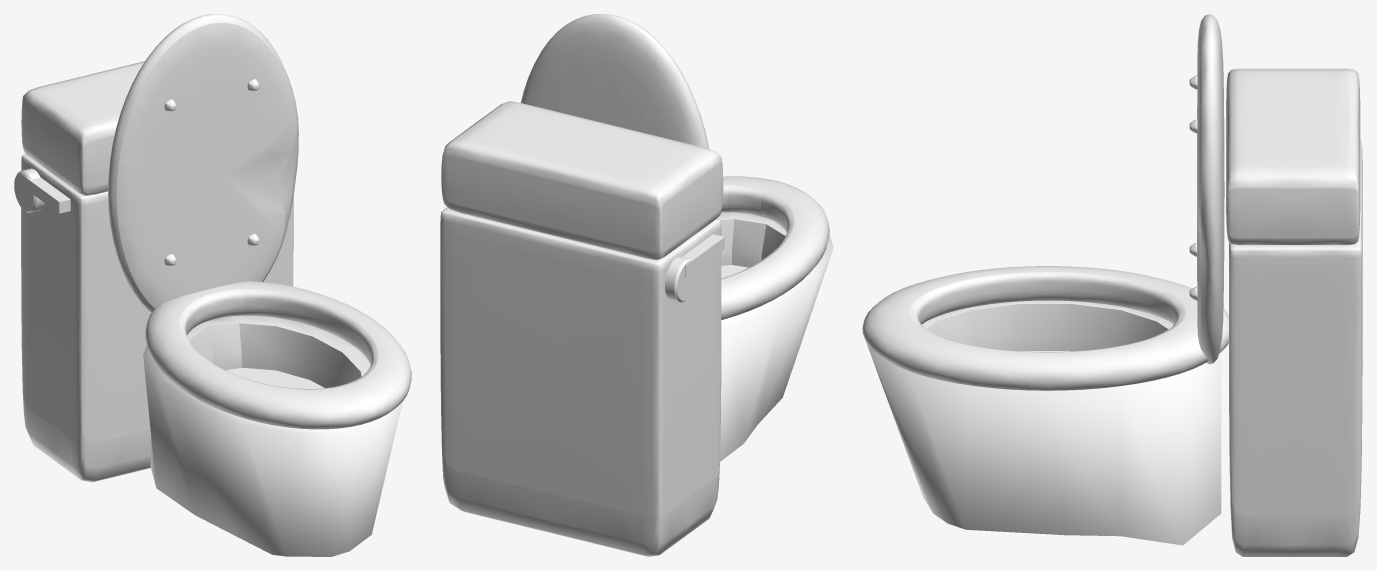
Rendered from Toilet_bowl.fbx.
3 views of the same model, side by side, from view 1: azimuth 30°, elevation 25°; view 2: azimuth 150°, elevation 25°; view 3: azimuth 270°, elevation 25° (orthographic). The views are drawn at different scales.
Parts seen in each view (by area): view 1: Toilet_bowl; view 2: Toilet_bowl; view 3: Toilet_bowl.
Boxes of the visible parts, x1,y1,x2,y2 form: Toilet_bowl: (14, 14, 411, 556); Toilet_bowl: (440, 14, 833, 556); Toilet_bowl: (862, 14, 1362, 556).
Bounding box in the file's own units: 65.71 × 126 × 116.
Materials: 1 (1 with a texture image).
